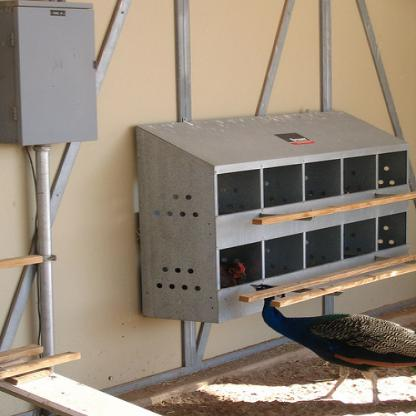bird: (245, 280, 415, 405), (216, 260, 248, 287)
